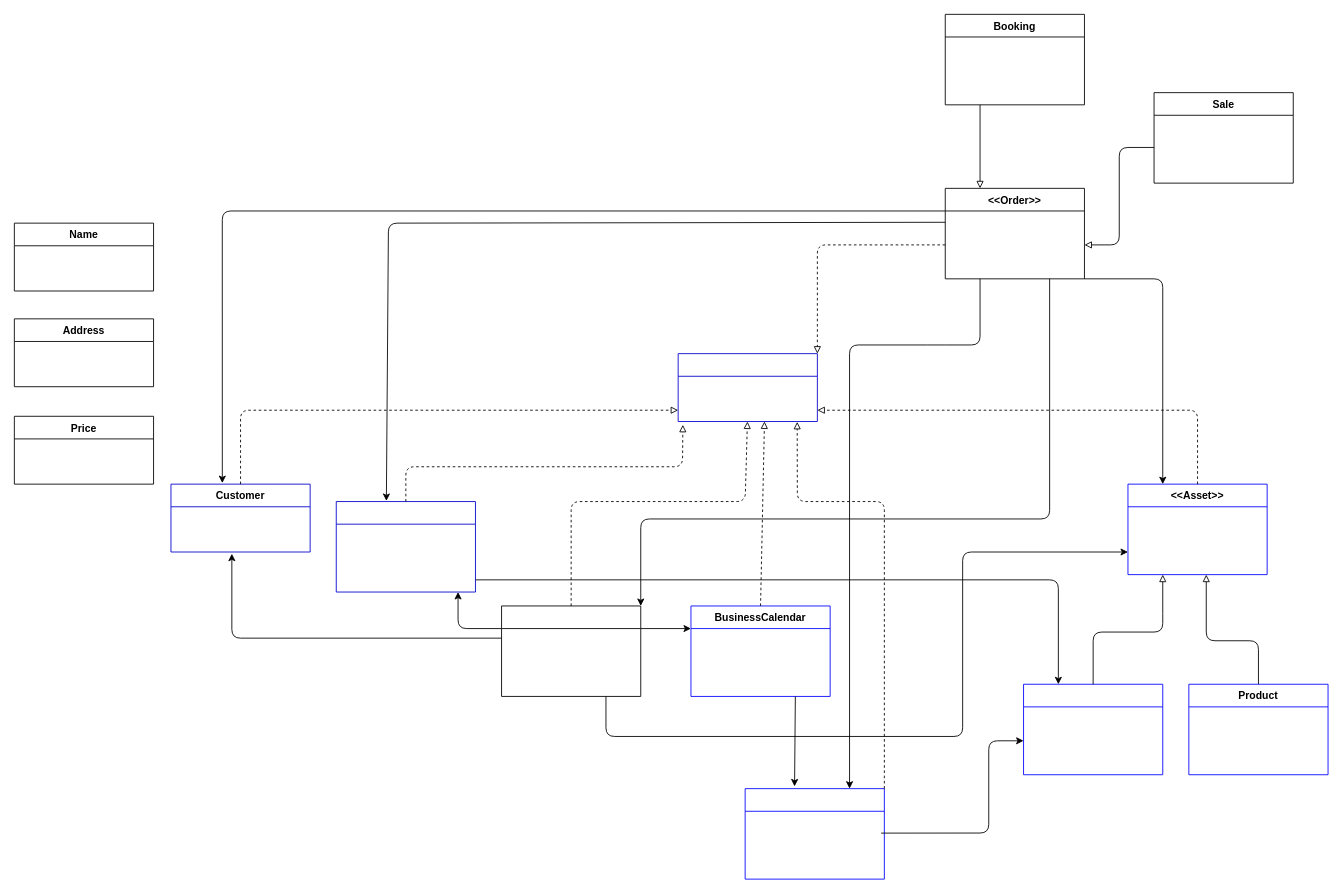
The diagram is 1342 pixels wide and 893 high, and some of its shapes have lost their labels. The shapes that lost their labels are listed below. From the top down, each one's centre as x and y in pixels, then its label:
At [747,387]: "IEntity".
At [405,546]: "Employee".
At [571,650]: "Business".
At [1093,729]: "Service".
At [814,833]: "WorkDay".
